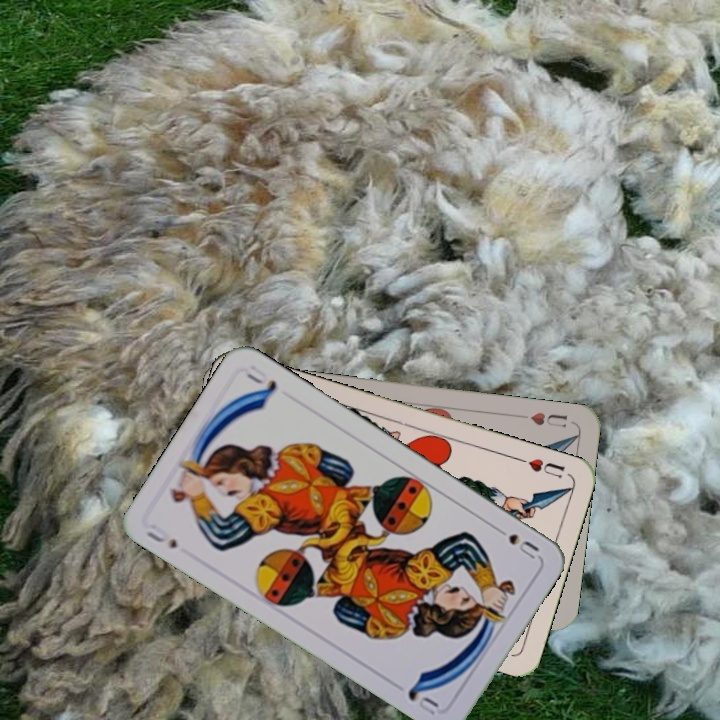HU: (513, 453, 567, 481), (526, 408, 570, 430)
SU: (489, 521, 542, 563), (142, 519, 180, 551)
